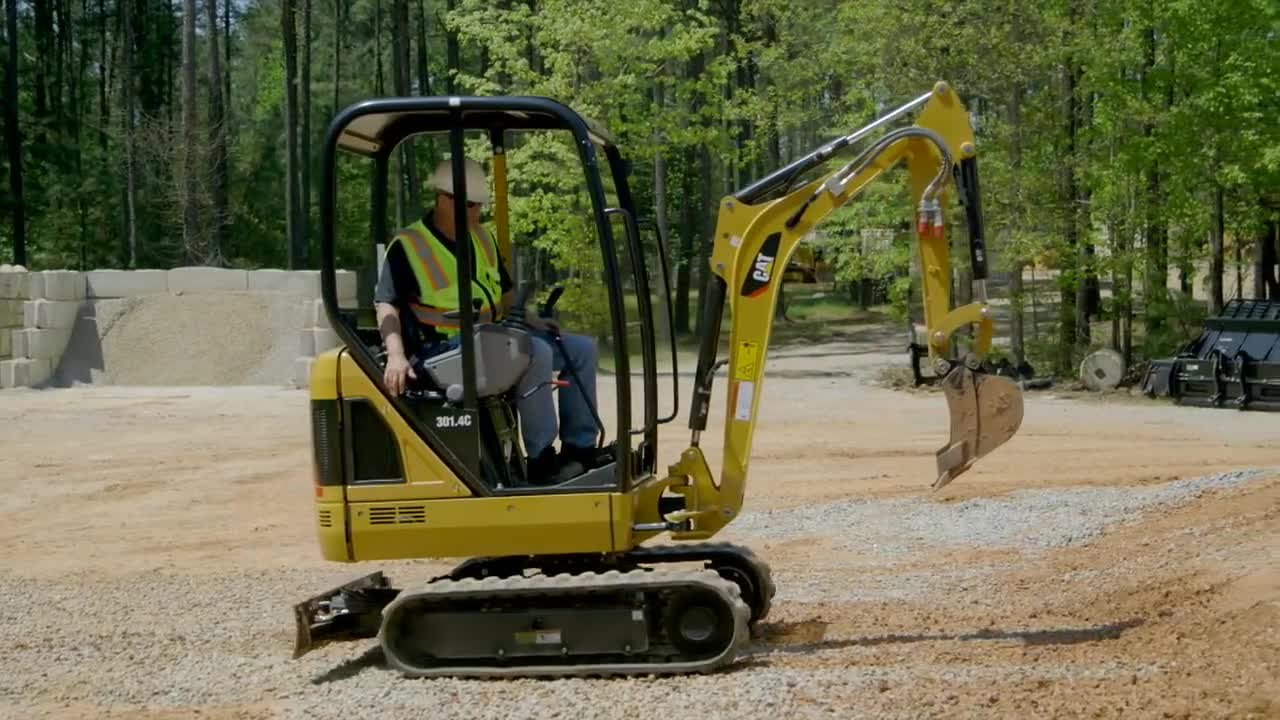attachment-bucket: (928, 355, 1023, 494)
cabin: (293, 99, 667, 568)
forearm: (902, 80, 993, 345)
upperarm: (679, 127, 918, 535)
wheelbase: (367, 532, 782, 683)
